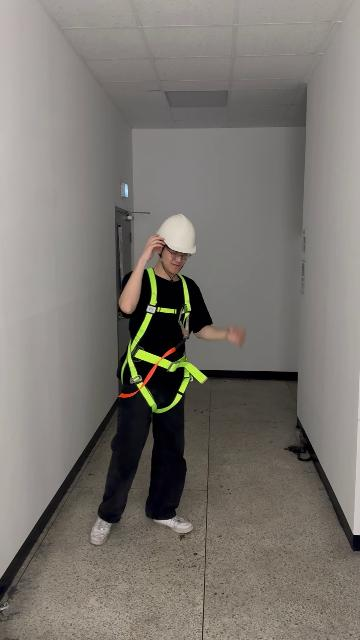helmet_worn: (155, 214, 198, 256)
shoe_not_worn: (152, 514, 193, 533), (90, 516, 112, 545)
vest_worn: (118, 271, 207, 412)
